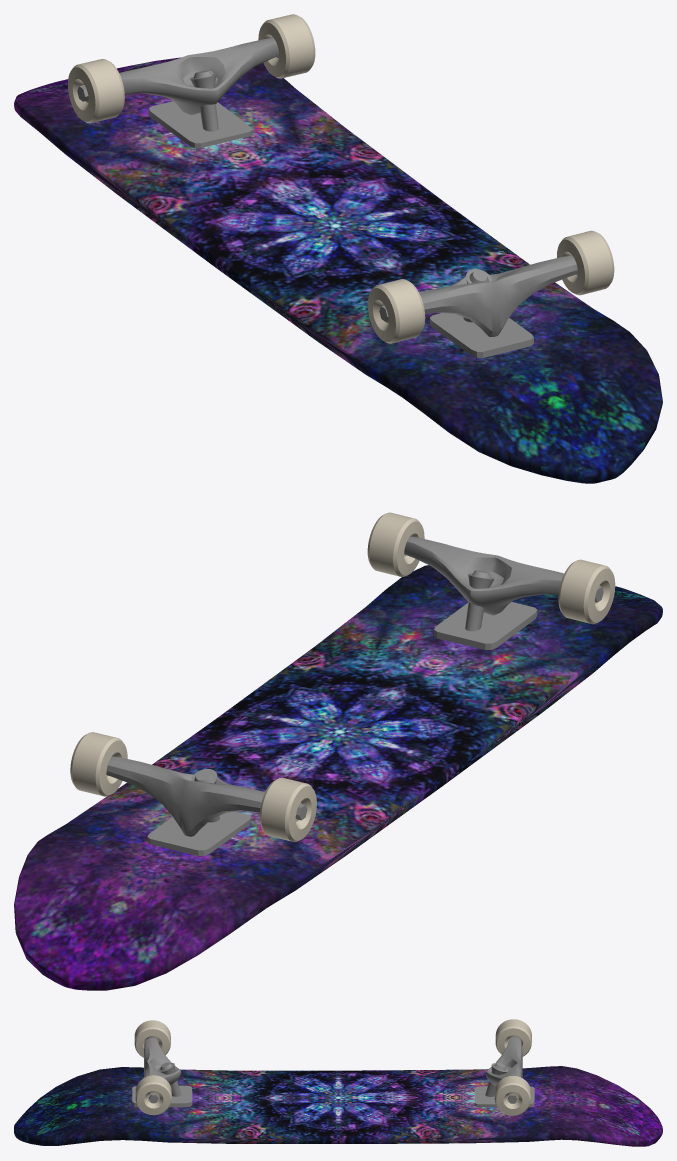
Rendered from skateboard_fake.glb.
3 renders of one model, top to bottom at view 1: azimuth 30°, elevation 25°; view 2: azimuth 150°, elevation 25°; view 3: azimuth 270°, elevation 25°, orthographic. The views are drawn at different scales.
Visible parts, largest first — view 1: Plane.002, Cylinder.001, Cylinder.003; view 2: Plane.002, Cylinder.003, Cylinder.001; view 3: Plane.002, Cylinder.001, Cylinder.003.
Boxes of the visible parts, x1=… form: Plane.002: x1=14, y1=57, x2=662, y2=483; Cylinder.001: x1=68, y1=14, x2=315, y2=147; Cylinder.003: x1=368, y1=230, x2=614, y2=358; Plane.002: x1=14, y1=565, x2=662, y2=990; Cylinder.003: x1=367, y1=512, x2=615, y2=649; Cylinder.001: x1=70, y1=732, x2=316, y2=856; Plane.002: x1=14, y1=1066, x2=662, y2=1146; Cylinder.001: x1=474, y1=1019, x2=534, y2=1115; Cylinder.003: x1=132, y1=1020, x2=192, y2=1115.
Size of the model in its own units: 1.67 by 0.9584 by 6.67.
4 materials, 1 textured.
